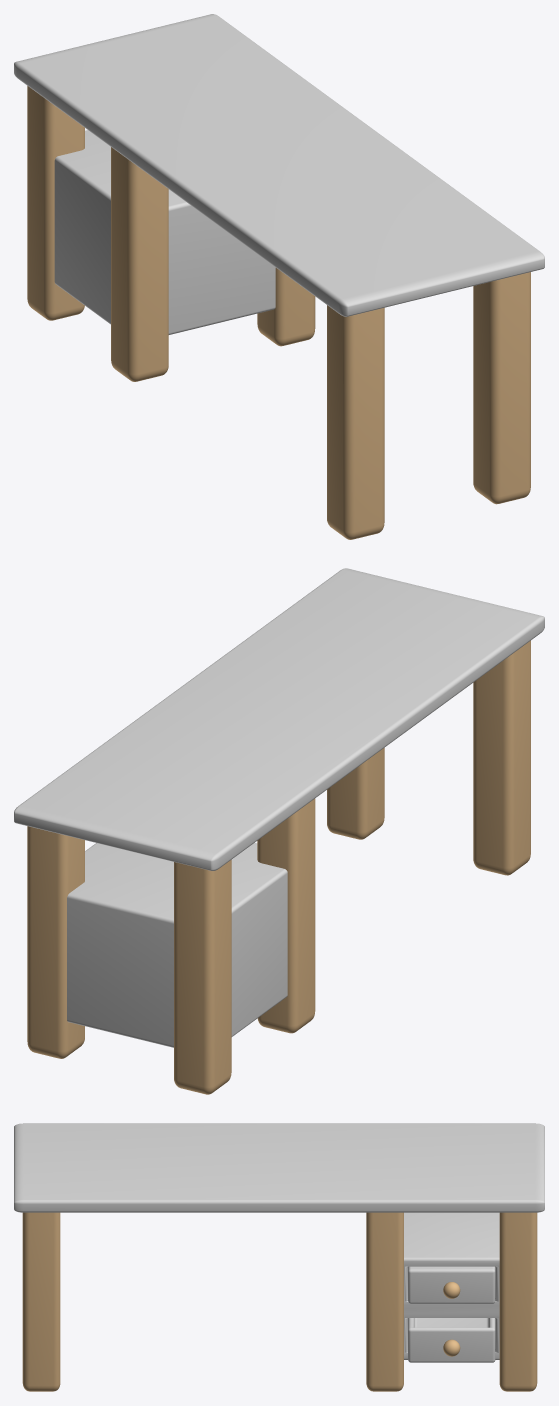
The model's file is simple_desk_A.glb.
3 renders of one model, top to bottom at view 1: azimuth 30°, elevation 25°; view 2: azimuth 150°, elevation 25°; view 3: azimuth 270°, elevation 25°, orthographic. The views are drawn at different scales.
Visible parts, largest first — view 1: simple_desk_A; view 2: simple_desk_A; view 3: simple_desk_A.
Boxes of the visible parts, box(x1,y1,x2,y2) form: simple_desk_A: box(14, 14, 544, 539); simple_desk_A: box(14, 568, 544, 1094); simple_desk_A: box(14, 1123, 544, 1391).
Size of the model in its own units: 0.8633 by 0.8736 by 2.15.
